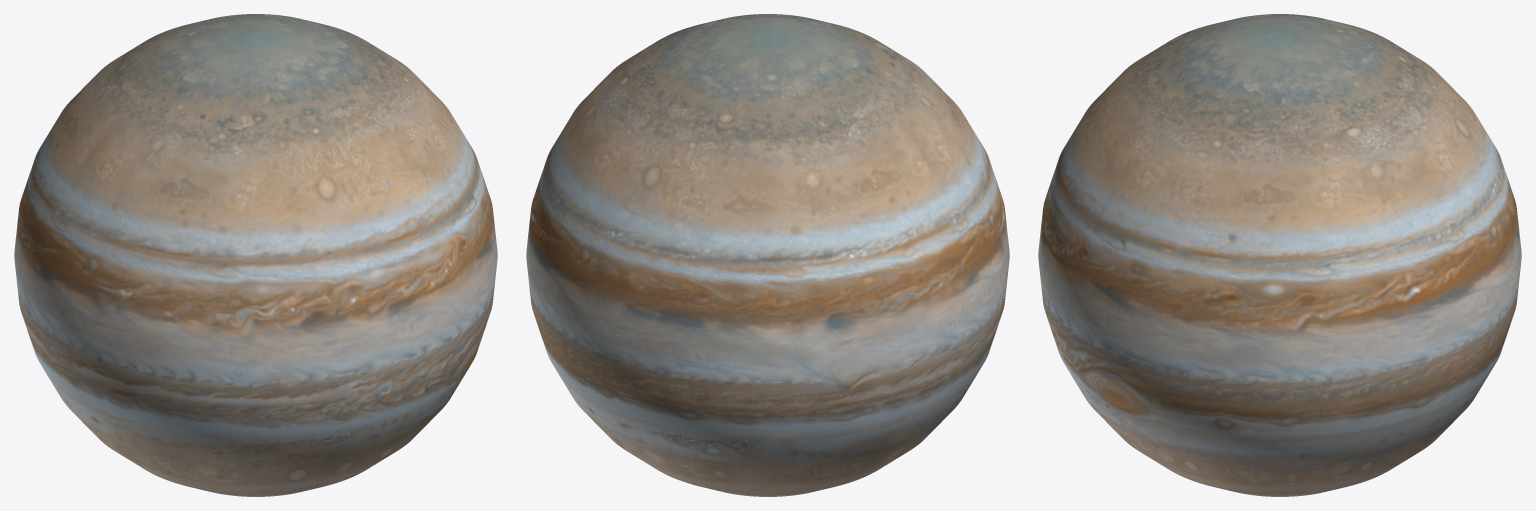
The model's file is Jupiter.fbx.
3 renders of one model, left to right at view 1: azimuth 30°, elevation 25°; view 2: azimuth 150°, elevation 25°; view 3: azimuth 270°, elevation 25°, orthographic.
Parts seen in each view (by area): view 1: Sphere; view 2: Sphere; view 3: Sphere.
Boxes of the visible parts, x1,y1,x2,y2 form: Sphere: (14,14,497,496); Sphere: (526,14,1009,496); Sphere: (1038,14,1521,496).
Bounding box in the file's own units: 200 × 200 × 200.
1 material, 1 textured.
